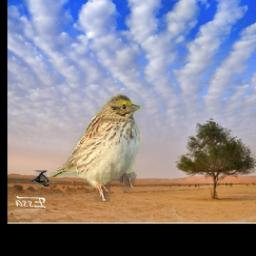Sparrow: (48, 92, 144, 203), (29, 171, 50, 187)
